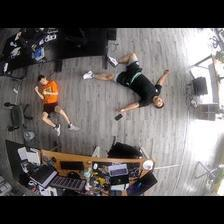fall: (83, 49, 171, 113), (33, 75, 80, 134)
